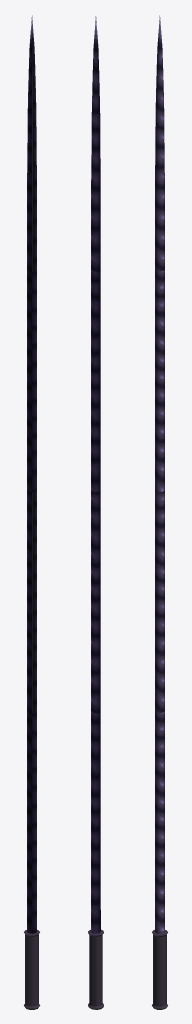
File: Whip.obj
The picture shows the model from 3 angles, left to right: view 1: azimuth 90°, elevation 25°; view 2: azimuth 150°, elevation 25°; view 3: azimuth 270°, elevation 25°; orthographic projection.
Visible parts, largest first — view 1: CW_Whip; view 2: CW_Whip; view 3: CW_Whip.
Boxes of the visible parts, x1=… form: CW_Whip: x1=24, y1=15, x2=40, y2=1009; CW_Whip: x1=88, y1=16, x2=103, y2=1009; CW_Whip: x1=152, y1=15, x2=167, y2=1009.
Size of the model in its own units: 0.1618 by 11.19 by 0.1697.
